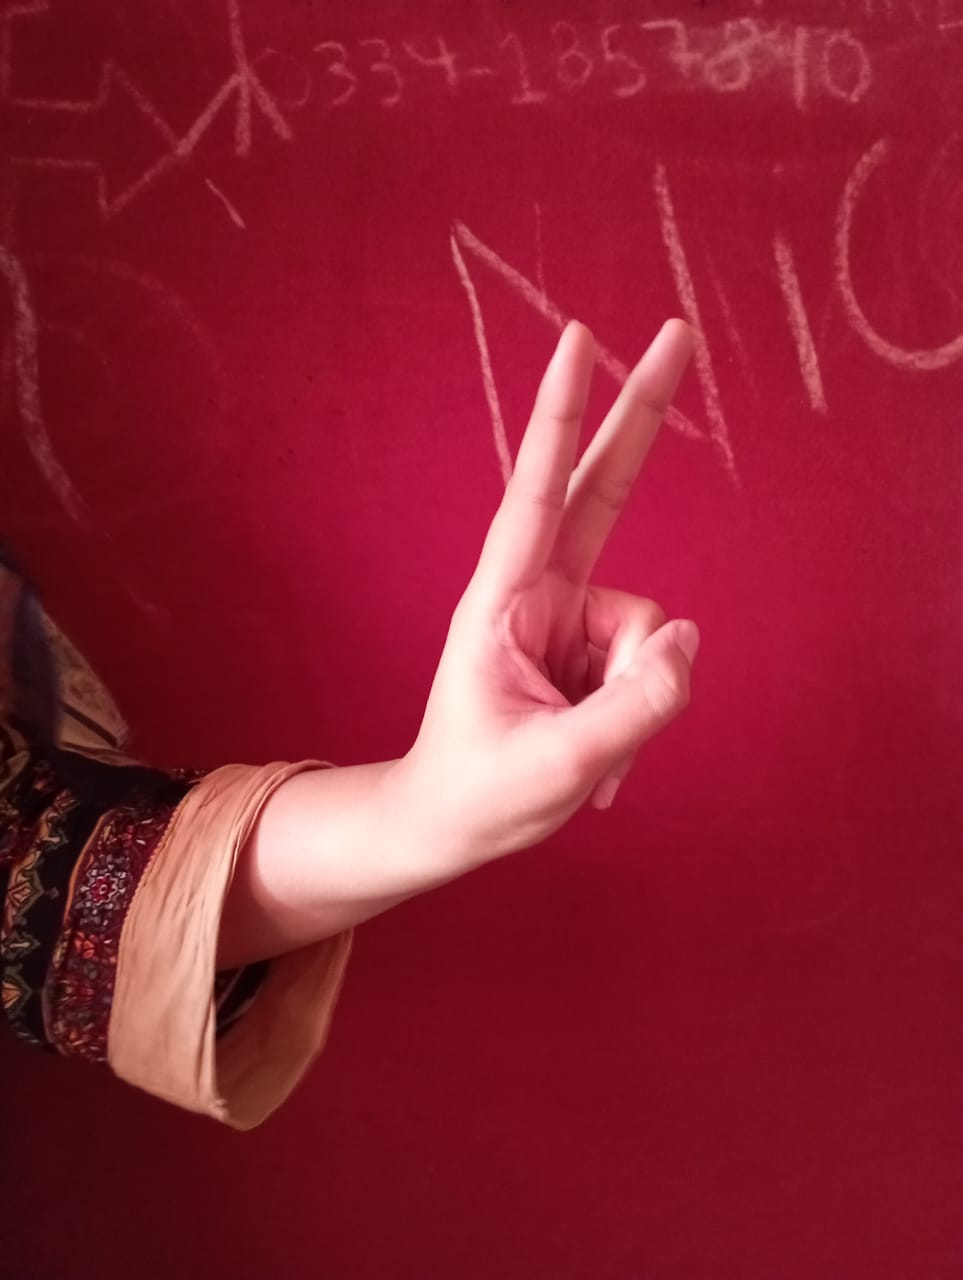Peace: (409, 300, 713, 900)
